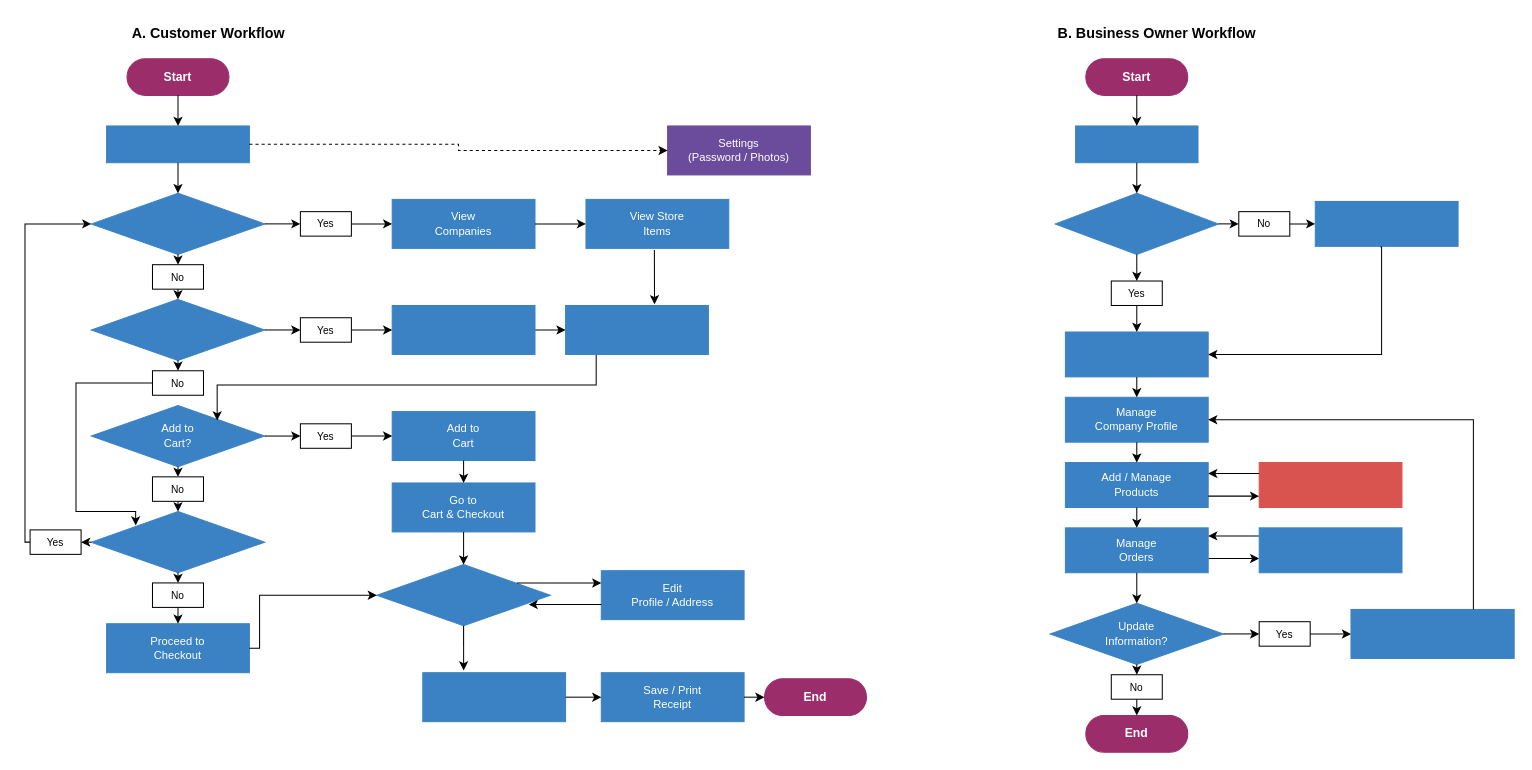
This 1532x770 diagram has some shape labels left out. The shapes that lost their labels are listed below. From the top down, each one's centre as x and y in pixels, then its label:
At pixel 177 144: "Login / Register".
At pixel 1136 144: "Login".
At pixel 177 223: "Browse Marketplace".
At pixel 1136 223: "Has Company?".
At pixel 1386 223: "Register Company".
At pixel 177 329: "Search for Product".
At pixel 463 329: "Search in Search Bar".
At pixel 636 329: "View Dish Details".
At pixel 1136 354: "Access My Company".
At pixel 1330 484: "Delete Product".
At pixel 177 542: "Continue Shopping?".
At pixel 1330 550: "Mark Order Complete".
At pixel 463 595: "Profile Complete?".
At pixel 1432 633: "Update Company Information".
At pixel 494 697: "Order Confirmation".
